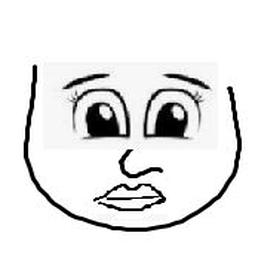cupid_mouth: (93, 180, 176, 215)
eye: (140, 85, 207, 148), (66, 85, 133, 145)
eyebrow: (160, 71, 213, 90), (62, 70, 107, 92)
nose: (112, 147, 167, 181)
